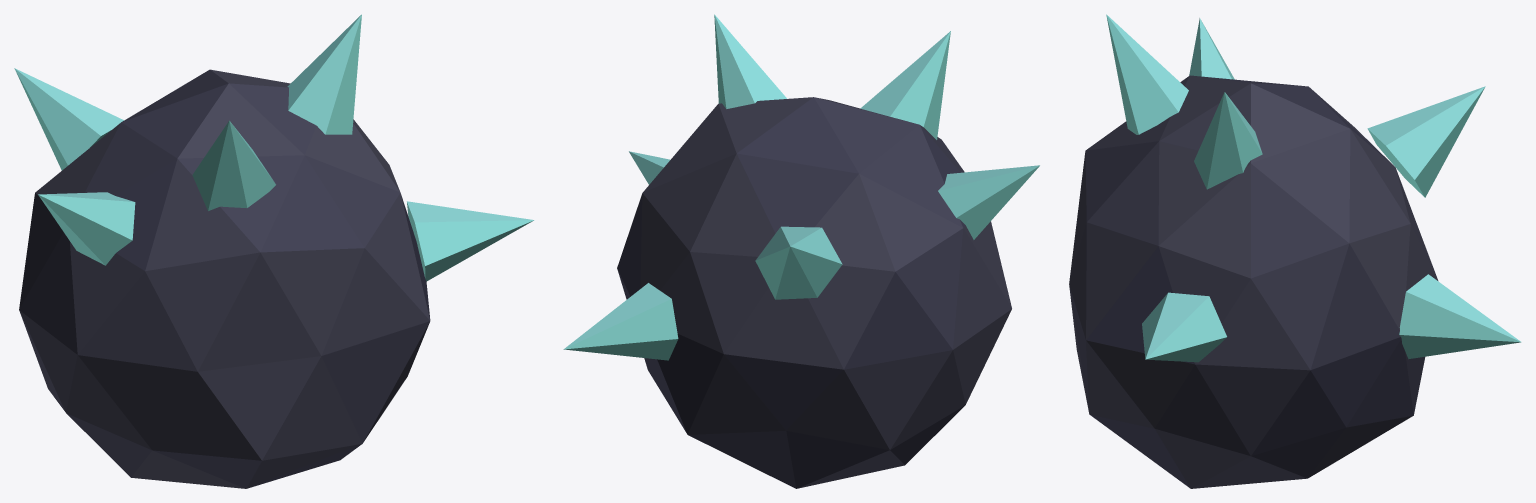
Rendered from Void_Ore.glb.
3 renders of one model, left to right at view 1: azimuth 30°, elevation 25°; view 2: azimuth 150°, elevation 25°; view 3: azimuth 270°, elevation 25°, orthographic. The views are drawn at different scales.
Parts seen in each view (by area): view 1: Void_Ore; view 2: Void_Ore; view 3: Void_Ore.
Boxes of the visible parts, x1,y1,x2,y2 form: Void_Ore: [14, 14, 534, 488]; Void_Ore: [563, 14, 1039, 488]; Void_Ore: [1069, 14, 1521, 488].
Size of the model in its own units: 0.4478 by 0.4012 by 0.3818.
